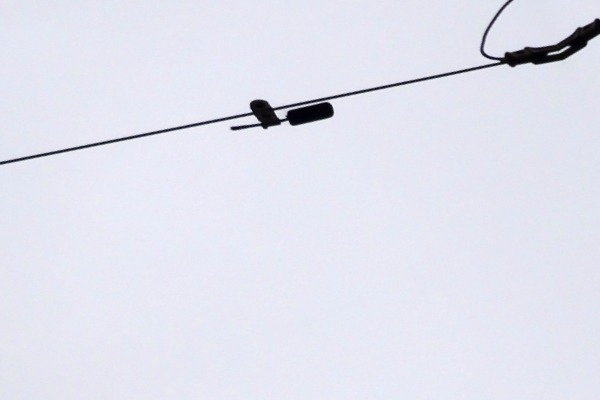damper_defect: (218, 96, 337, 136)
